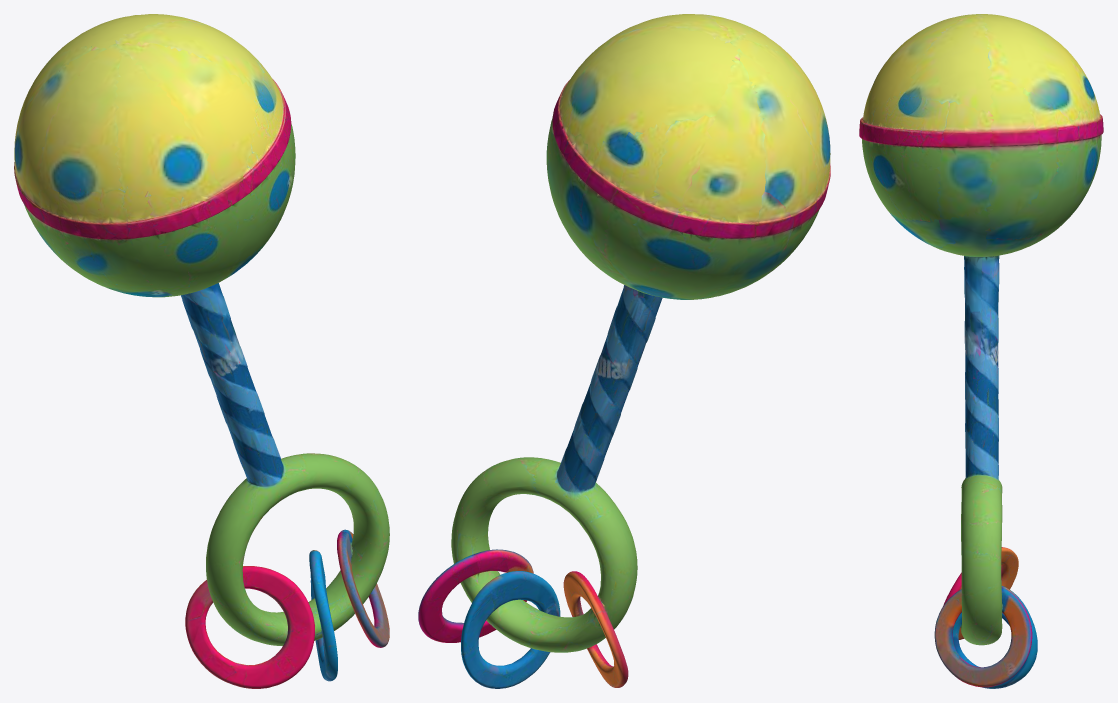
3 views of the same model, side by side, from view 1: azimuth 30°, elevation 25°; view 2: azimuth 150°, elevation 25°; view 3: azimuth 270°, elevation 25° (orthographic). The views are drawn at different scales.
Size of the model in its own units: 1.05 by 1.9 by 0.7147.
Materials: 1 (1 with a texture image).
